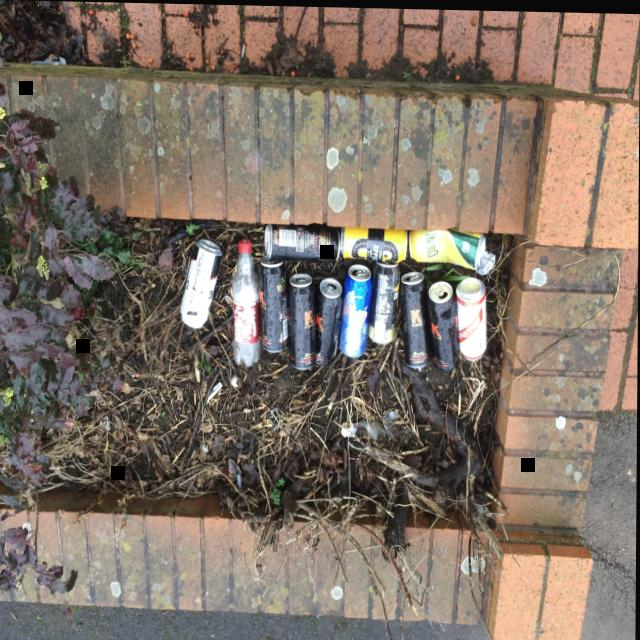Clear plastic bottle: (232, 237, 261, 367)
Drink can: (181, 238, 223, 328), (399, 270, 432, 367), (265, 221, 341, 262), (410, 227, 486, 268), (340, 263, 373, 356), (258, 254, 289, 351), (428, 279, 459, 370), (368, 259, 401, 342), (288, 272, 316, 369), (456, 276, 487, 359), (315, 277, 344, 364), (341, 225, 408, 262)
Plastic bottle cap: (239, 238, 252, 248)
Pop tab: (434, 282, 444, 294), (358, 268, 367, 274), (328, 283, 335, 290), (411, 273, 419, 278), (298, 277, 305, 281)
Unlabeled litter: (477, 248, 495, 272), (383, 410, 399, 435), (360, 422, 385, 437), (207, 382, 223, 405), (342, 427, 358, 437), (241, 42, 245, 58)
